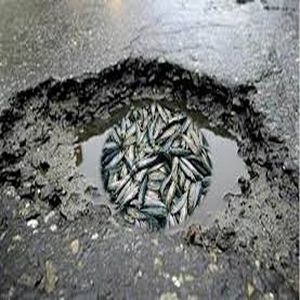pothole: (1, 53, 299, 258)
